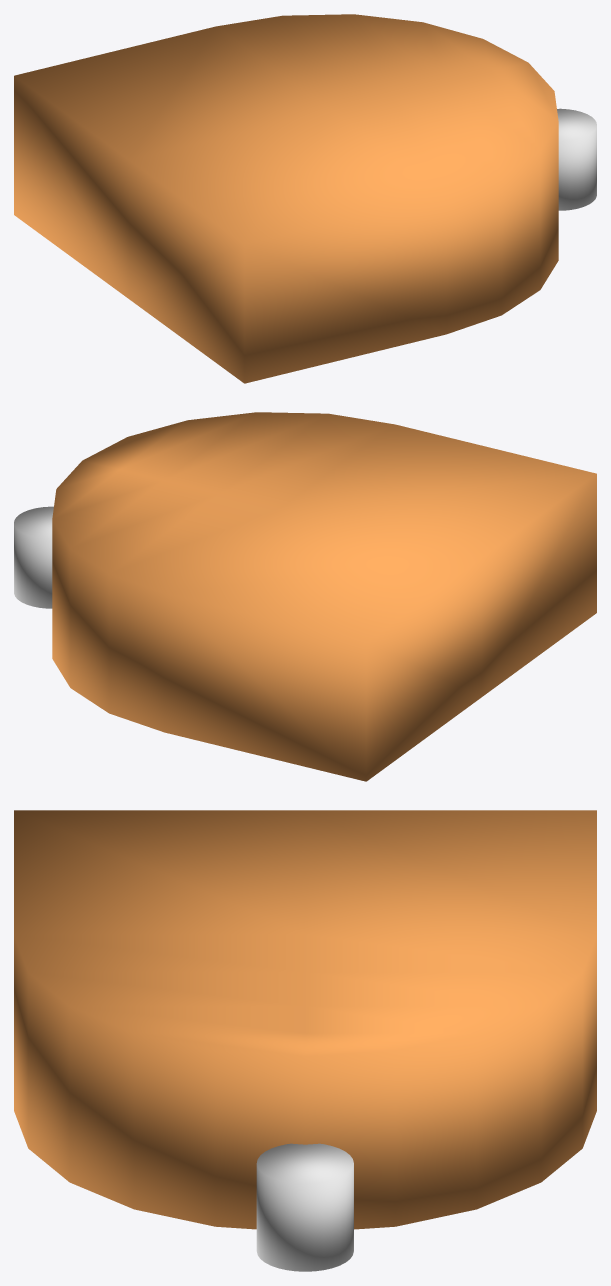
Rendered from NAND-transformed.glb.
3 views of the same model, one above another, from view 1: azimuth 30°, elevation 25°; view 2: azimuth 150°, elevation 25°; view 3: azimuth 270°, elevation 25° (orthographic). The views are drawn at different scales.
Visible parts, largest first — view 1: 2, Cot2; view 2: 2, Cot2; view 3: 2, Cot2.
Part boxes in pixels (bbox=[...]): 2: bbox=[14, 14, 558, 383]; Cot2: bbox=[557, 108, 596, 210]; 2: bbox=[52, 412, 596, 781]; Cot2: bbox=[14, 506, 53, 608]; 2: bbox=[14, 810, 596, 1229]; Cot2: bbox=[256, 1143, 353, 1271].
Size of the model in its own units: 3.48 by 1 by 3.
